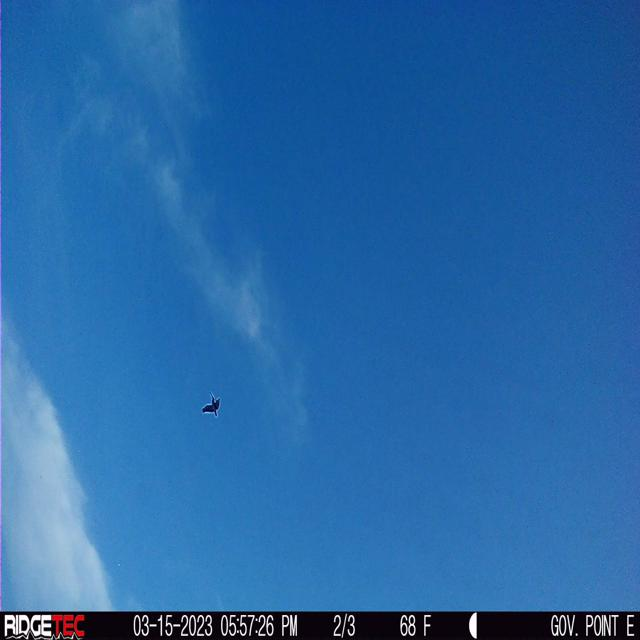bird: (181, 385, 237, 436)
